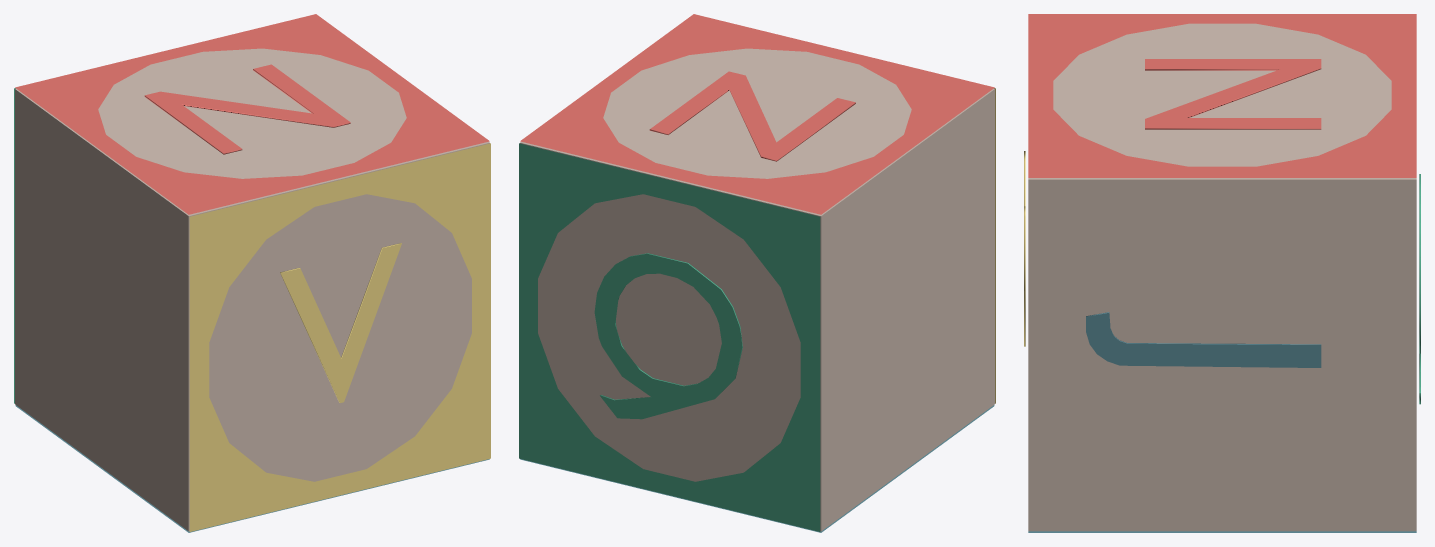
The picture shows the model from 3 angles, left to right: view 1: azimuth 30°, elevation 25°; view 2: azimuth 150°, elevation 25°; view 3: azimuth 270°, elevation 25°; orthographic projection. The views are drawn at different scales.
Parts seen in each view (by area): view 1: cube; view 2: cube; view 3: cube.
Part boxes in pixels (left/top/right/bottom): cube: left=14, top=14, right=490, bottom=532; cube: left=519, top=14, right=995, bottom=532; cube: left=1024, top=14, right=1420, bottom=532.
Size of the model in its own units: 0.0453 by 0.046 by 0.046.
